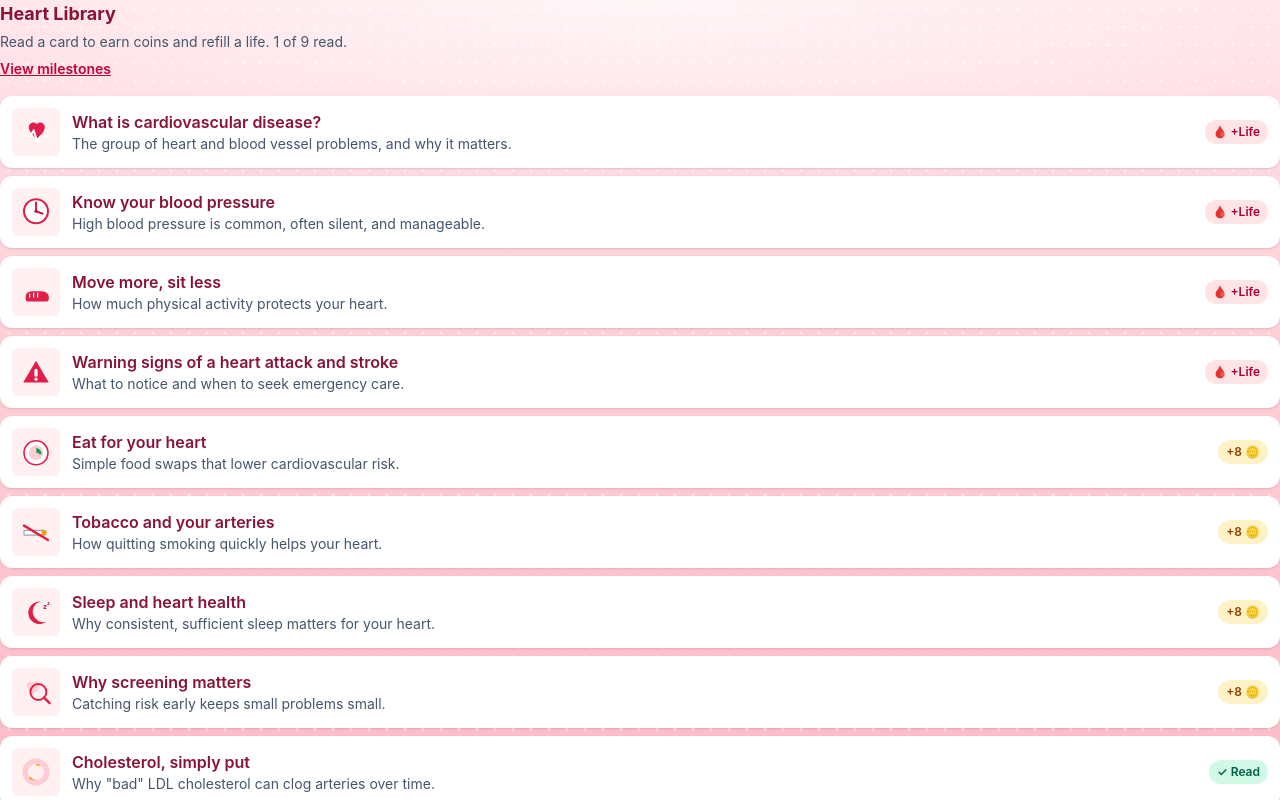
Library screen › shows the Blood Bank life meter and refill missions
This screenshot has width=1280, height=800.
Click the link "View milestones".
click(56, 69)  # box [0,59,111,79]
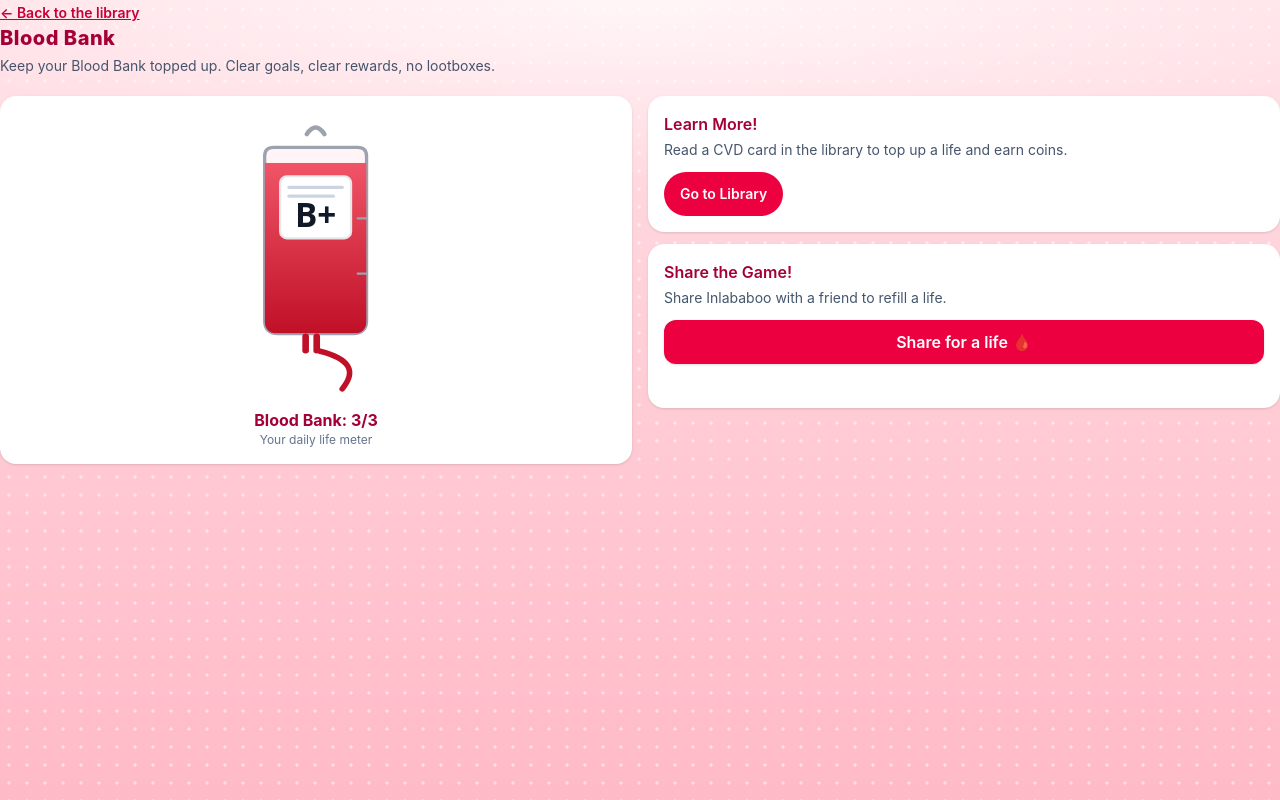
Now the picture "B+" is shown, box [227,112,405,400]
Now the button "Share for a life 🩸" is shown, box [664,320,1264,364]
